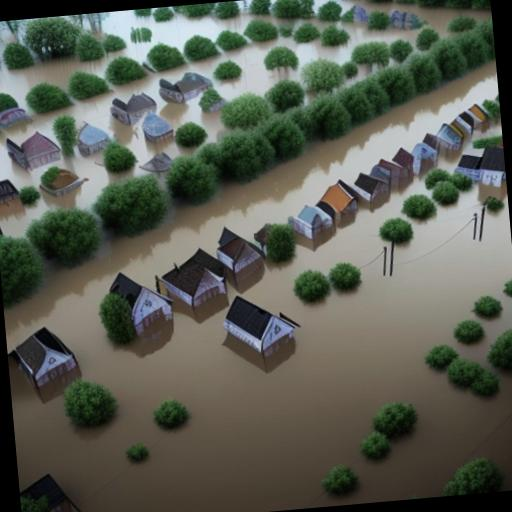flood: (4, 60, 512, 512), (0, 0, 420, 236), (334, 0, 492, 37), (440, 140, 483, 171), (474, 121, 502, 139), (0, 32, 10, 56)
house: (221, 284, 298, 366), (100, 264, 178, 344), (12, 322, 80, 392), (156, 252, 230, 316), (216, 218, 265, 288), (8, 122, 68, 178), (18, 469, 79, 512), (156, 66, 212, 108), (314, 177, 359, 227), (292, 200, 336, 250), (108, 88, 160, 130), (371, 144, 414, 194), (472, 136, 507, 190), (350, 164, 392, 209), (74, 118, 118, 158), (432, 118, 468, 156), (410, 133, 440, 177), (139, 112, 175, 146), (0, 172, 20, 214)
